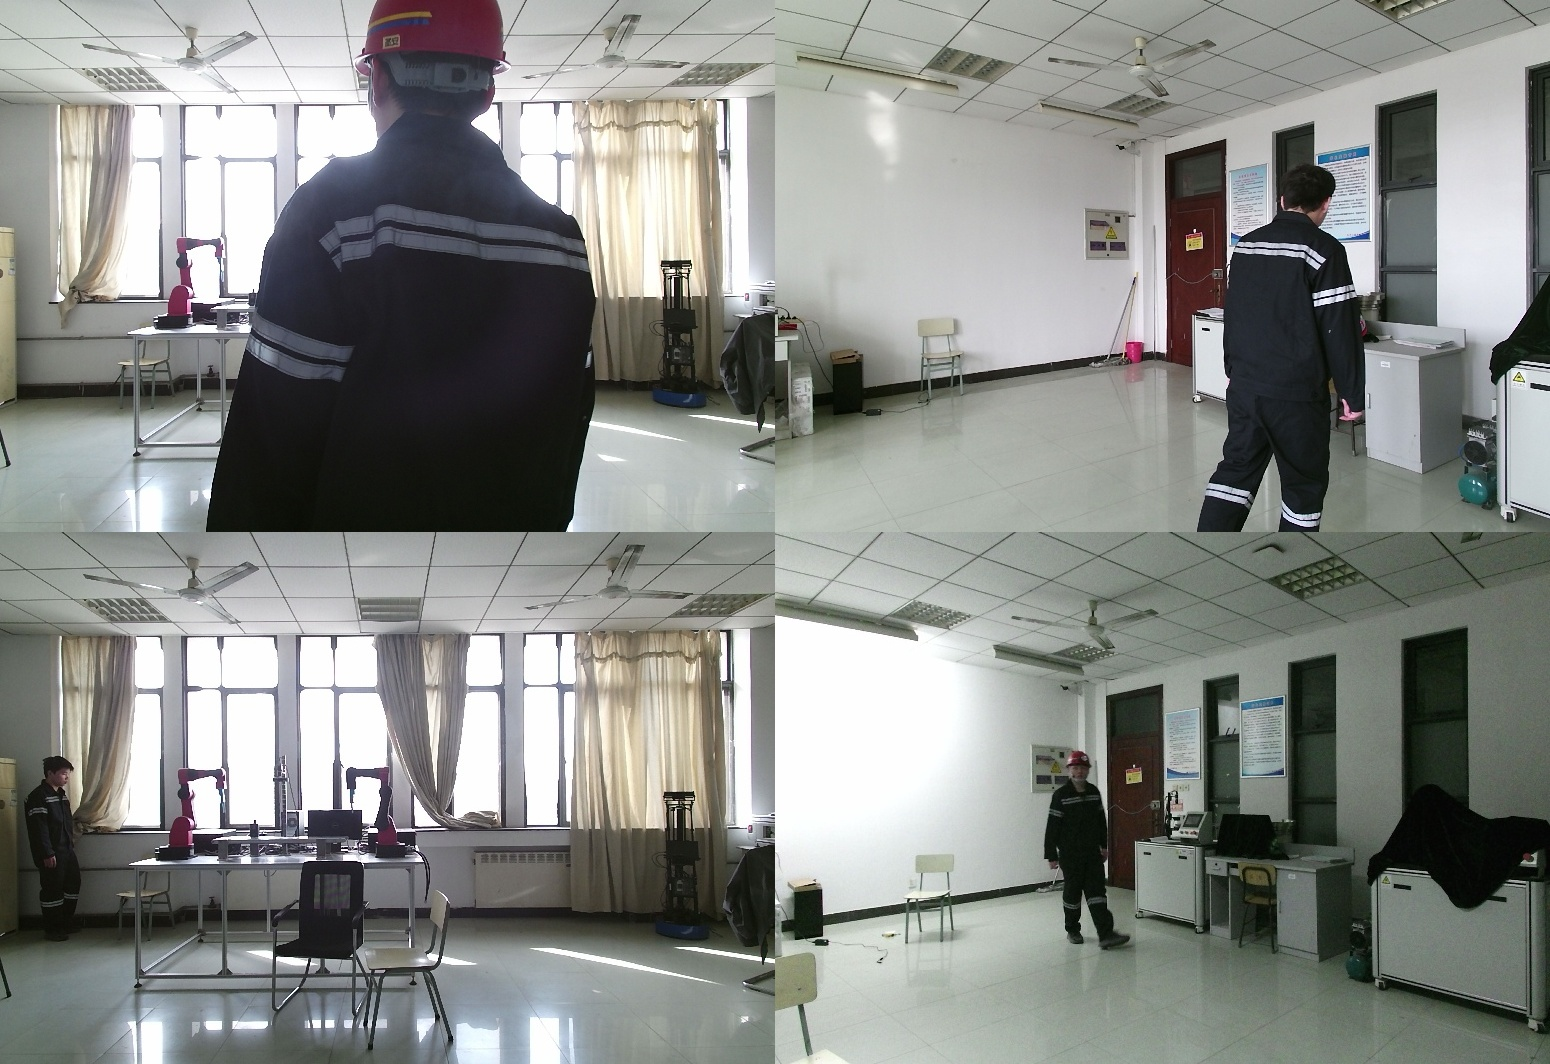person: (209, 1, 594, 532), (1196, 166, 1365, 532), (1040, 753, 1133, 953), (18, 756, 81, 943)
